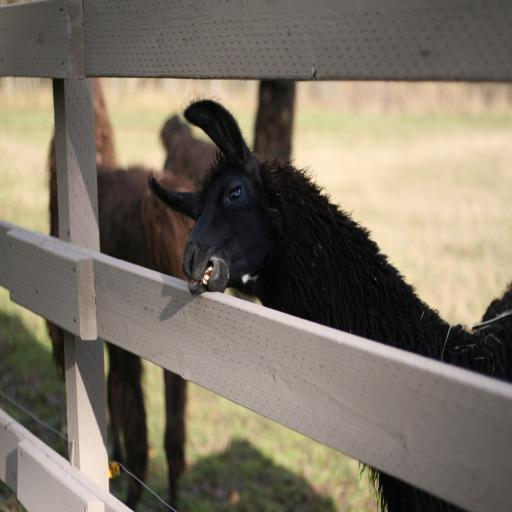Horse: (148, 100, 512, 512), (43, 68, 198, 508)
